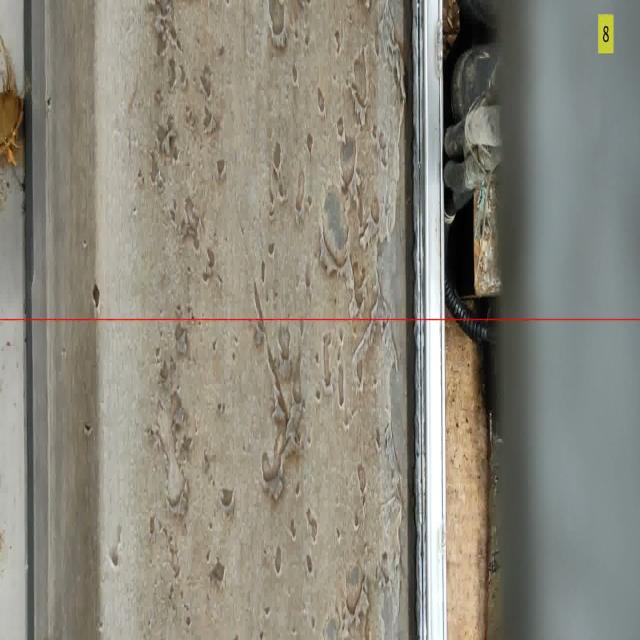Coconut-Conveyor-Belt: (0, 62, 23, 145)
